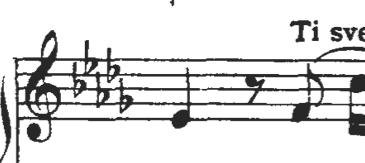flat: (65, 52, 90, 103), (103, 37, 124, 85), (91, 65, 111, 112), (80, 33, 100, 76), (116, 74, 136, 115)
treble_clef: (19, 26, 68, 152)
